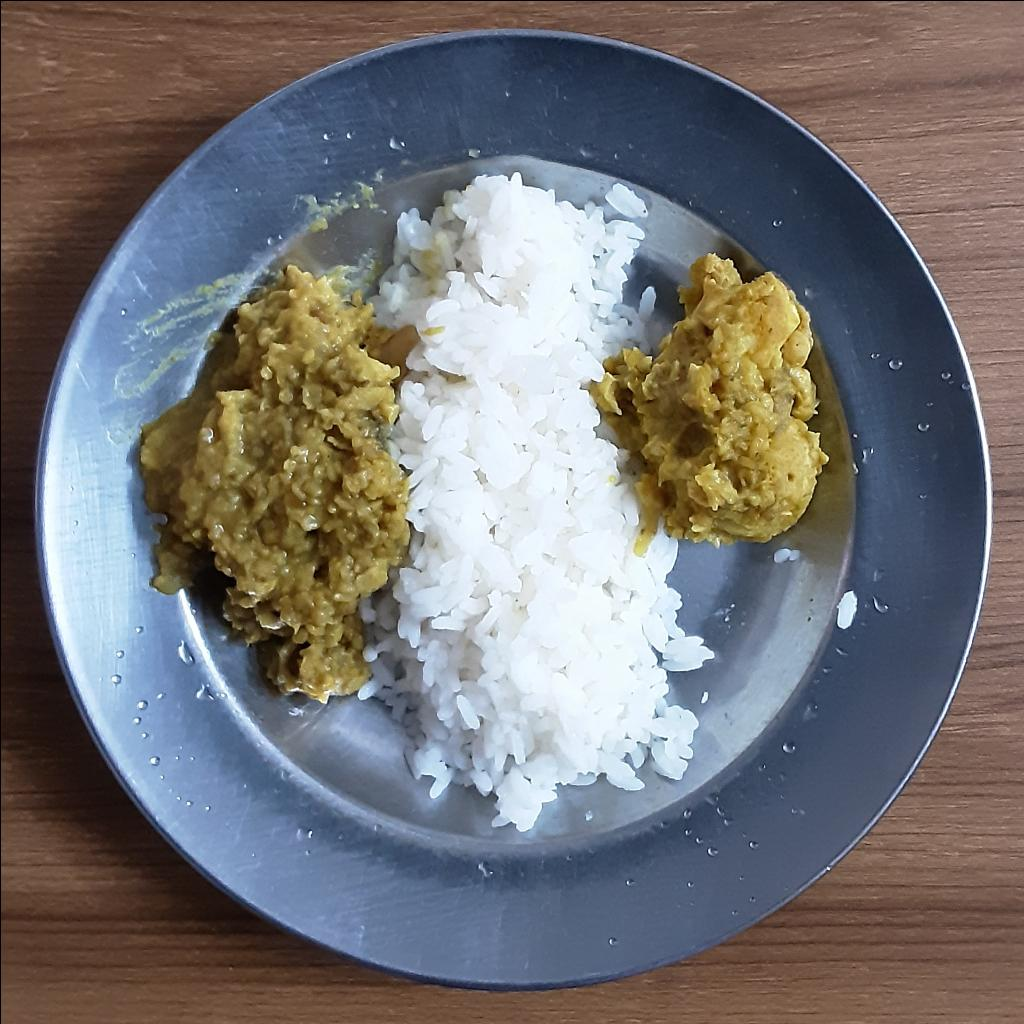daal: (137, 262, 421, 700)
kochu: (581, 252, 829, 550)
rice: (352, 174, 714, 828), (839, 584, 864, 638)
